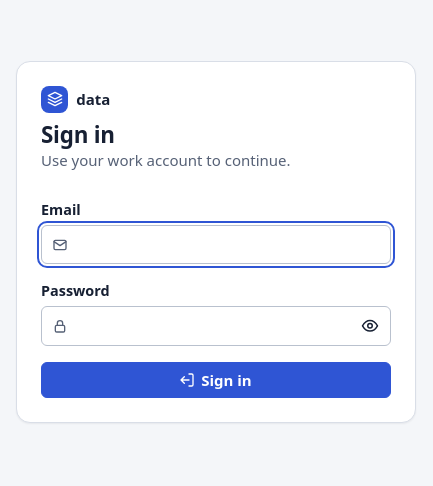
Test case: Login › announces a failed login and keeps the form usable
Type "a@b.co" into the field labelled "Email" at (216, 245), box [41,225,391,264]
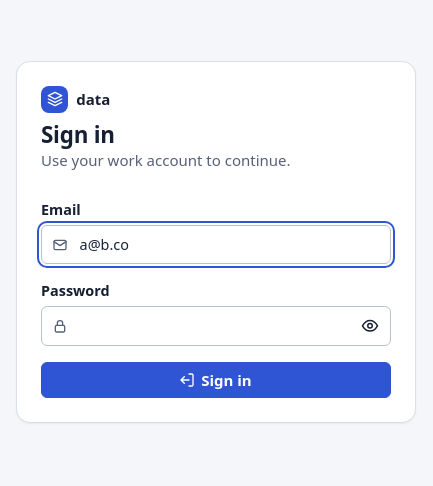
Type "nope" into the password field labelled "Password" at (216, 326), box [41,306,391,346]
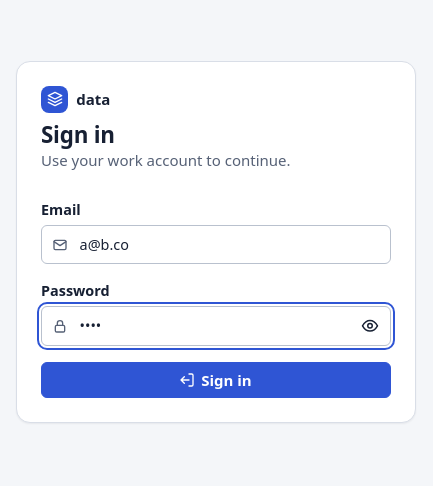
Click the button "Sign in" at (216, 380), box [41,362,391,398]
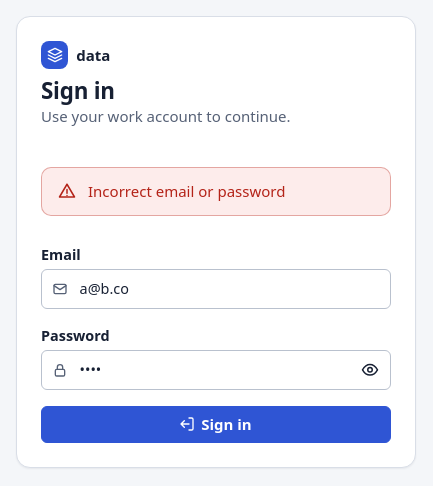
Expected: the button "Sign in" is enabled, [41,406,391,443]
Expected: the message reads "Incorrect email or password", [88,181,285,201]
